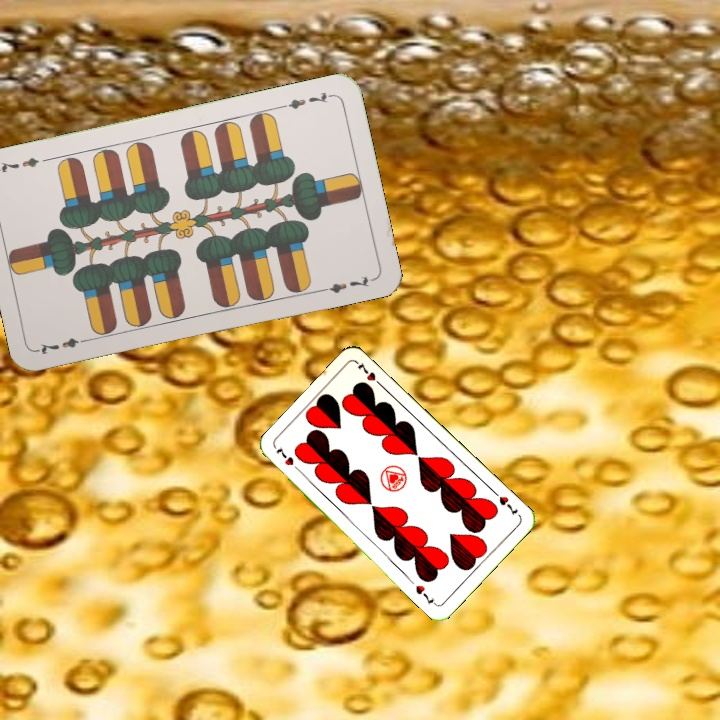E7: (277, 88, 336, 112), (34, 333, 93, 357)
H7: (272, 444, 304, 476), (489, 487, 521, 518)
